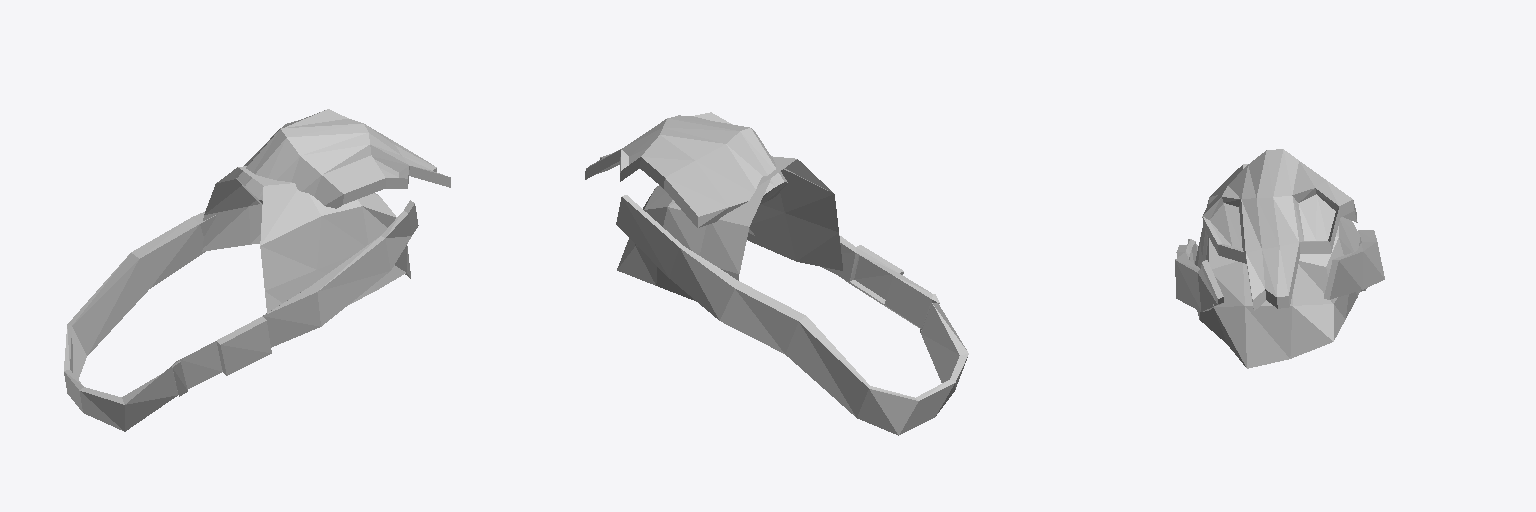
Rendered from tribe_shoulder.obj.
3 renders of one model, left to right at view 1: azimuth 30°, elevation 25°; view 2: azimuth 150°, elevation 25°; view 3: azimuth 270°, elevation 25°, orthographic.
Parts seen in each view (by area): view 1: strap_Cube.002, fur_Cube, skull_Cube.001; view 2: strap_Cube.002, fur_Cube, skull_Cube.001; view 3: skull_Cube.001, fur_Cube, strap_Cube.002.
Boxes of the visible parts, x1=… form: strap_Cube.002: x1=64, y1=200, x2=418, y2=431; fur_Cube: x1=202, y1=166, x2=410, y2=312; skull_Cube.001: x1=235, y1=109, x2=450, y2=208; strap_Cube.002: x1=616, y1=195, x2=968, y2=435; fur_Cube: x1=617, y1=156, x2=842, y2=301; skull_Cube.001: x1=585, y1=112, x2=787, y2=227; skull_Cube.001: x1=1202, y1=149, x2=1357, y2=310; fur_Cube: x1=1195, y1=164, x2=1361, y2=368; strap_Cube.002: x1=1175, y1=230, x2=1384, y2=311.
Size of the model in its own units: 5.42 by 3.41 by 2.71.